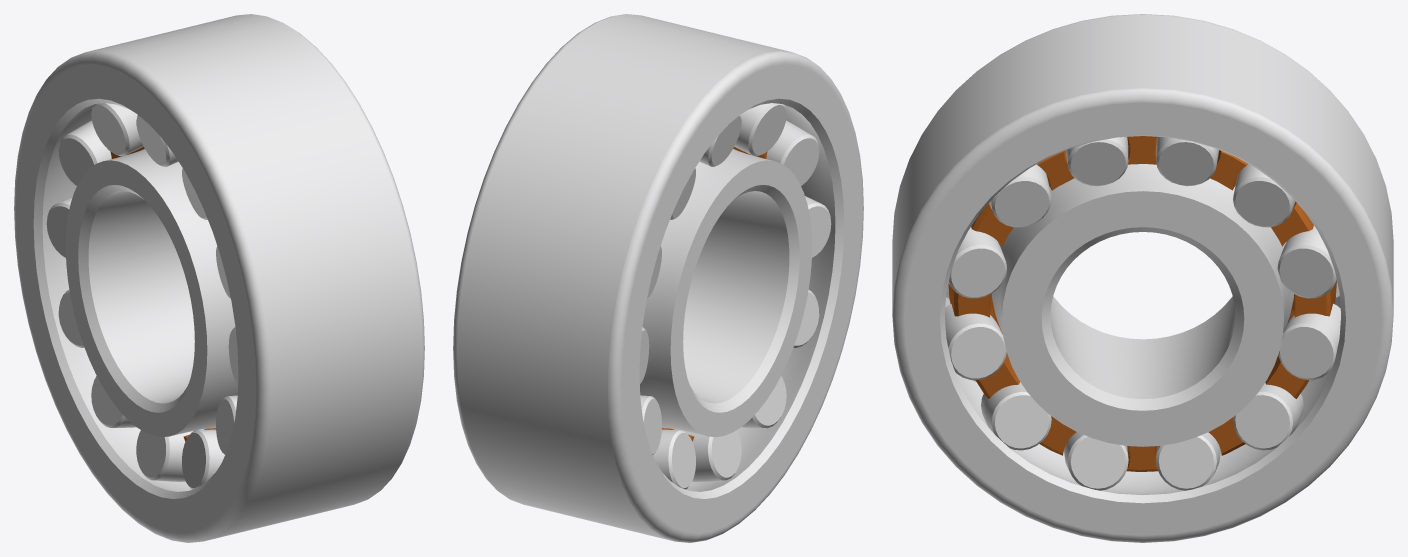
3 views of the same model, side by side, from view 1: azimuth 30°, elevation 25°; view 2: azimuth 150°, elevation 25°; view 3: azimuth 270°, elevation 25° (orthographic).
Visible parts, largest first — view 1: Circle028, Circle030, Circle031; view 2: Circle028, Circle030, Circle031; view 3: Circle028, Circle030, Circle031.
Boxes of the visible parts, x1,y1,x2,y2 form: Circle028: (14, 14, 424, 542); Circle030: (65, 149, 237, 437); Circle031: (46, 103, 238, 489); Circle028: (453, 14, 863, 542); Circle030: (640, 149, 812, 437); Circle031: (639, 103, 831, 489); Circle028: (892, 14, 1393, 542); Circle030: (992, 164, 1293, 446); Circle031: (945, 136, 1340, 490).
Size of the model in its own units: 2.72 by 7.09 by 7.09.
